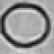no answer: (1, 3, 50, 49)
